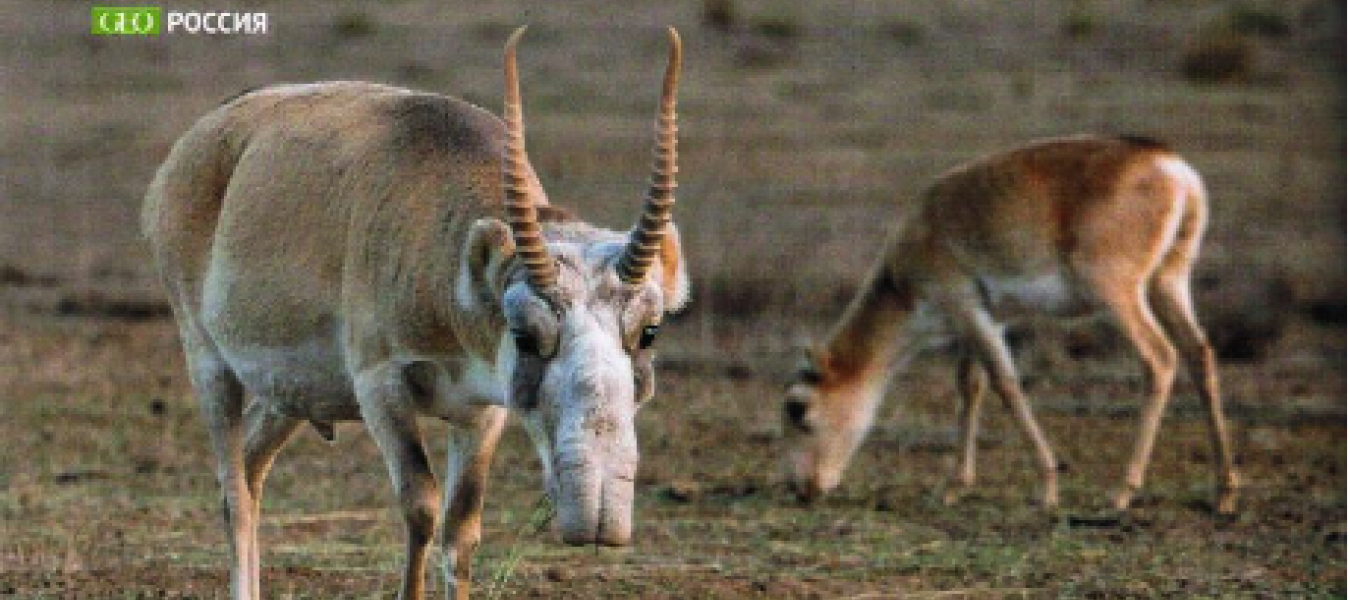saiga: (137, 25, 698, 595), (776, 126, 1250, 543)
